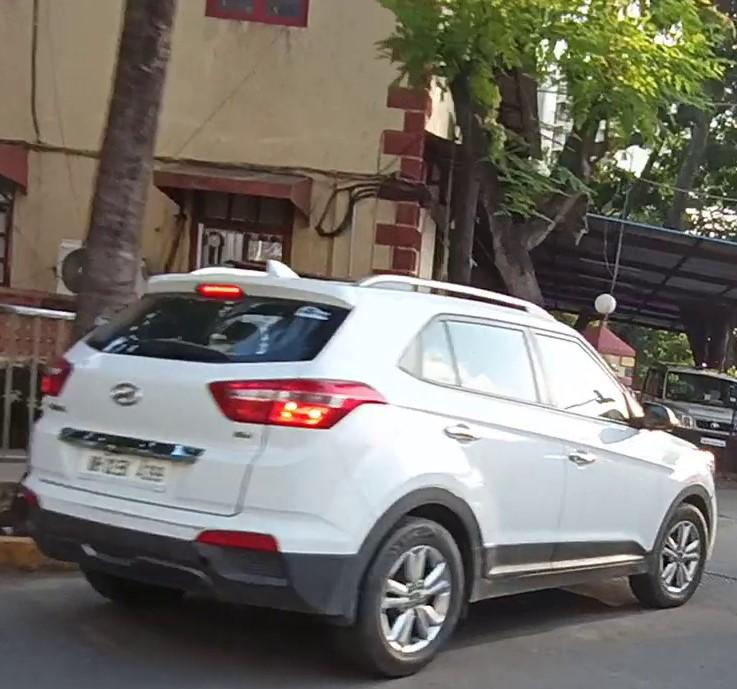MH02EK4399: (80, 448, 174, 488)
